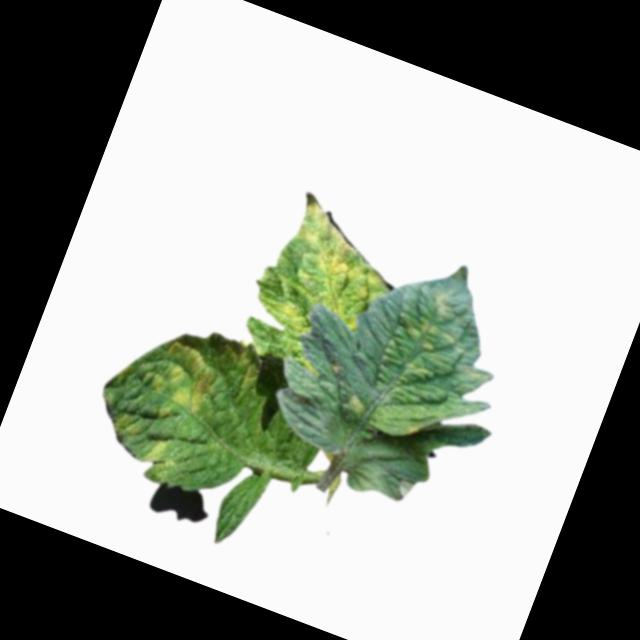Leaf_Mold: (351, 272, 520, 462), (255, 190, 397, 352), (135, 334, 222, 420), (142, 429, 173, 468)
